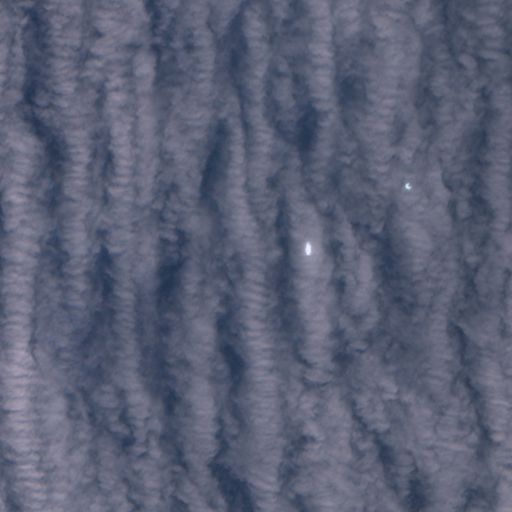Iceberg: (305, 242, 311, 255), (405, 183, 411, 188)
